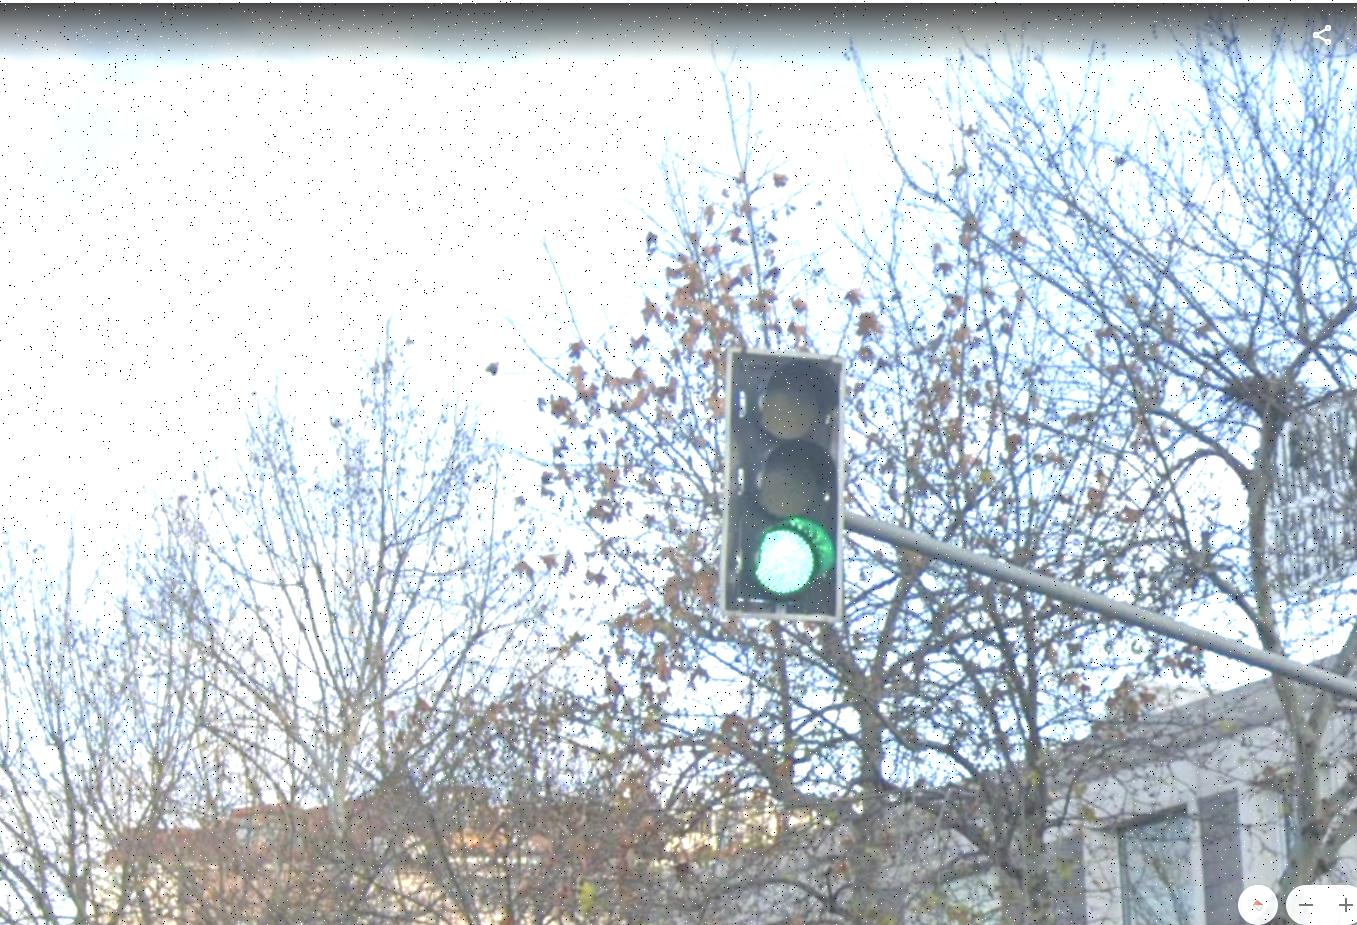greenlight: (717, 335, 862, 631)
